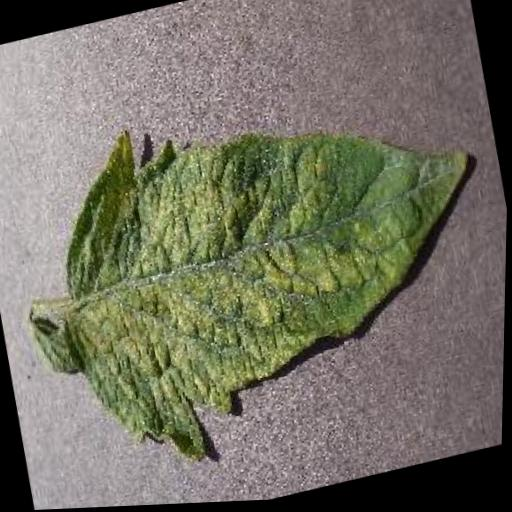Spider Mites: (31, 56, 511, 485)
